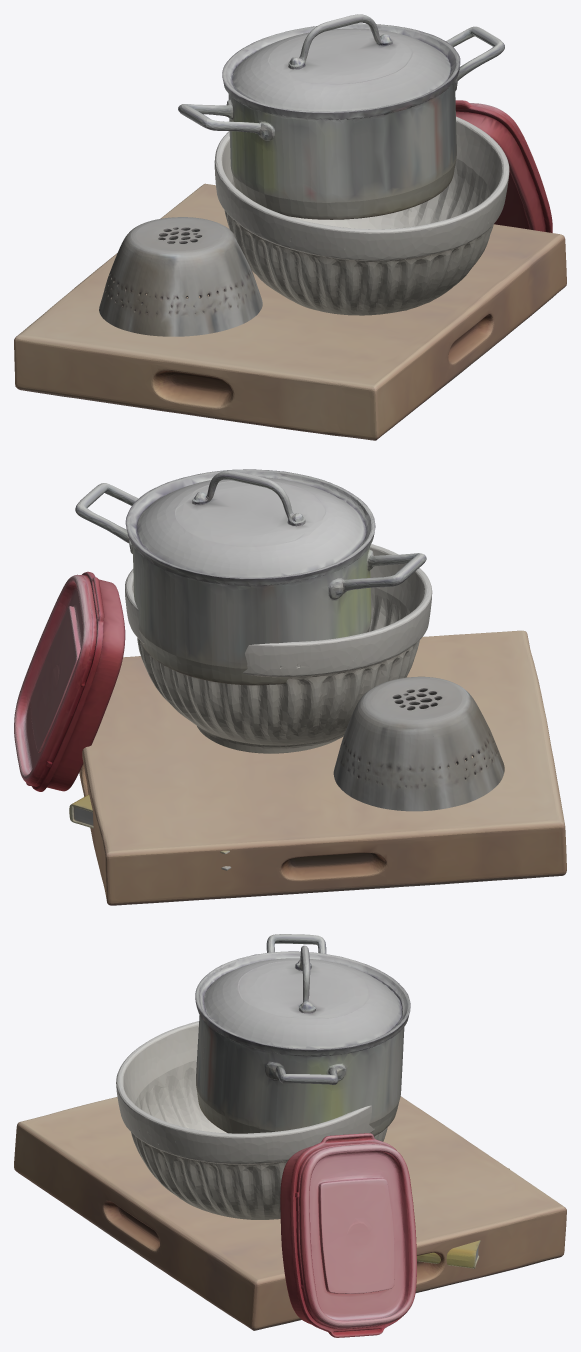
File: sam3d.glb
The picture shows the model from 3 angles, top to bottom: view 1: azimuth 30°, elevation 25°; view 2: azimuth 150°, elevation 25°; view 3: azimuth 270°, elevation 25°; orthographic projection. The views are drawn at different scales.
Parts seen in each view (by area): view 1: object_04, object_05, object_03, object_01, object_02; view 2: object_04, object_05, object_03, object_01, object_02, object_00; view 3: object_04, object_05, object_02, object_03, object_00.
Part boxes in pixels (box(x1,y1,x2,y2)): object_04: box(14, 183, 566, 440); object_05: box(178, 14, 504, 219); object_03: box(214, 116, 509, 315); object_01: box(99, 217, 262, 336); object_02: box(455, 100, 552, 232); object_04: box(79, 630, 566, 905); object_05: box(75, 469, 426, 685); object_03: box(125, 544, 432, 753); object_01: box(333, 676, 504, 811); object_02: box(14, 571, 125, 791); object_00: box(69, 794, 231, 870); object_04: box(14, 1096, 566, 1330); object_05: box(195, 934, 410, 1136); object_02: box(280, 1133, 416, 1337); object_03: box(116, 1021, 387, 1219); object_00: box(417, 1168, 509, 1268).
Bounding box in the file's own units: 1.16 × 0.6608 × 1.09.
